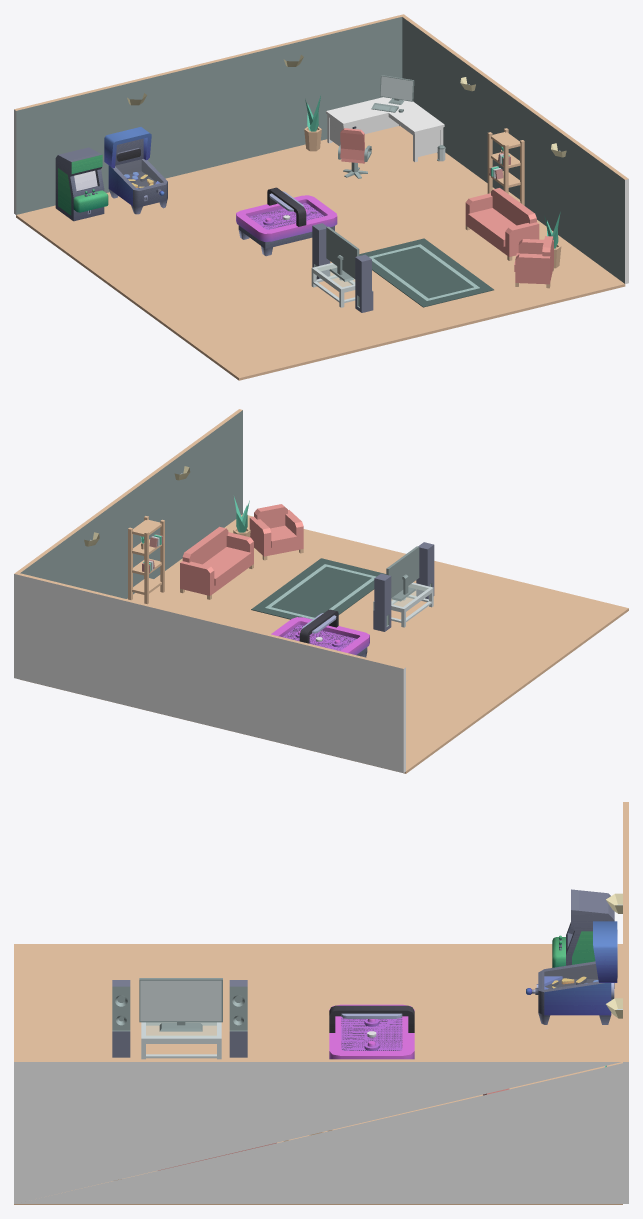
Rendered from kenney_office.glb.
3 views of the same model, one above another, from view 1: azimuth 30°, elevation 25°; view 2: azimuth 150°, elevation 25°; view 3: azimuth 270°, elevation 25° (orthographic). The views are drawn at different scales.
Parts seen in each view (by area): view 1: floorFull(Clone), wall(Clone).001, wall(Clone), rugRectangle(Clone), air-hockey, pinball, deskCorner(Clone), loungeSofa(Clone), arcade-machine, loungeChair(Clone), bookcaseOpen(Clone), televisionModern(Clone) (+6 smaller); view 2: wall(Clone).001, floorFull(Clone), wall(Clone), rugRectangle(Clone), loungeSofa(Clone), air-hockey, loungeChair(Clone), bookcaseOpen(Clone), televisionModern(Clone), speaker(Clone), tableCoffeeGlass(Clone), speaker(Clone).001; view 3: wall(Clone), floorFull(Clone), pinball, air-hockey, televisionModern(Clone), arcade-machine, tableCoffeeGlass(Clone), wall(Clone).001, speaker(Clone), speaker(Clone).001, (%ignore).
Boxes of the visible parts, x1,y1,x2,y2 form: floorFull(Clone): (16,126,625,380); wall(Clone).001: (14,14,405,214); wall(Clone): (401,14,628,283); rugRectangle(Clone): (359,238,493,307); air-hockey: (236,187,337,256); pinball: (104,127,167,214); deskCorner(Clone): (326,97,444,161); loungeSofa(Clone): (465,188,539,260); arcade-machine: (55,147,108,221); loungeChair(Clone): (514,236,553,288); bookcaseOpen(Clone): (487,128,524,205); televisionModern(Clone): (326,226,359,281); wall(Clone).001: (14,573,405,772); floorFull(Clone): (20,514,628,773); wall(Clone): (14,409,242,598); rugRectangle(Clone): (251,558,386,619); loungeSofa(Clone): (180,526,253,599); air-hockey: (271,609,369,657); loungeChair(Clone): (249,504,303,560); bookcaseOpen(Clone): (128,516,164,604); televisionModern(Clone): (386,546,419,601); speaker(Clone): (373,573,391,631); tableCoffeeGlass(Clone): (373,582,433,627); speaker(Clone).001: (416,542,434,599); wall(Clone): (14,1059,628,1203); floorFull(Clone): (14,944,622,1204); pinball: (526,921,617,1024); air-hockey: (329,1004,414,1059); televisionModern(Clone): (139,978,222,1031); arcade-machine: (552,889,617,988); tableCoffeeGlass(Clone): (141,1022,221,1059); wall(Clone).001: (623,802,628,1062); speaker(Clone): (229,980,247,1057); speaker(Clone).001: (112,980,130,1057); (%ignore): (544,964,598,989).
Bounding box in the file's own units: 5.05 × 1.32 × 5.05.
Materials: 41 (3 with a texture image).
